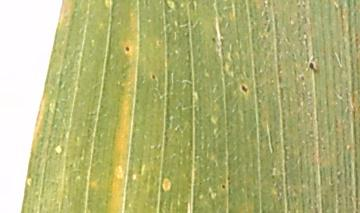tarspot: (307, 61, 319, 76), (239, 82, 251, 94), (123, 43, 132, 55), (219, 182, 227, 190)
